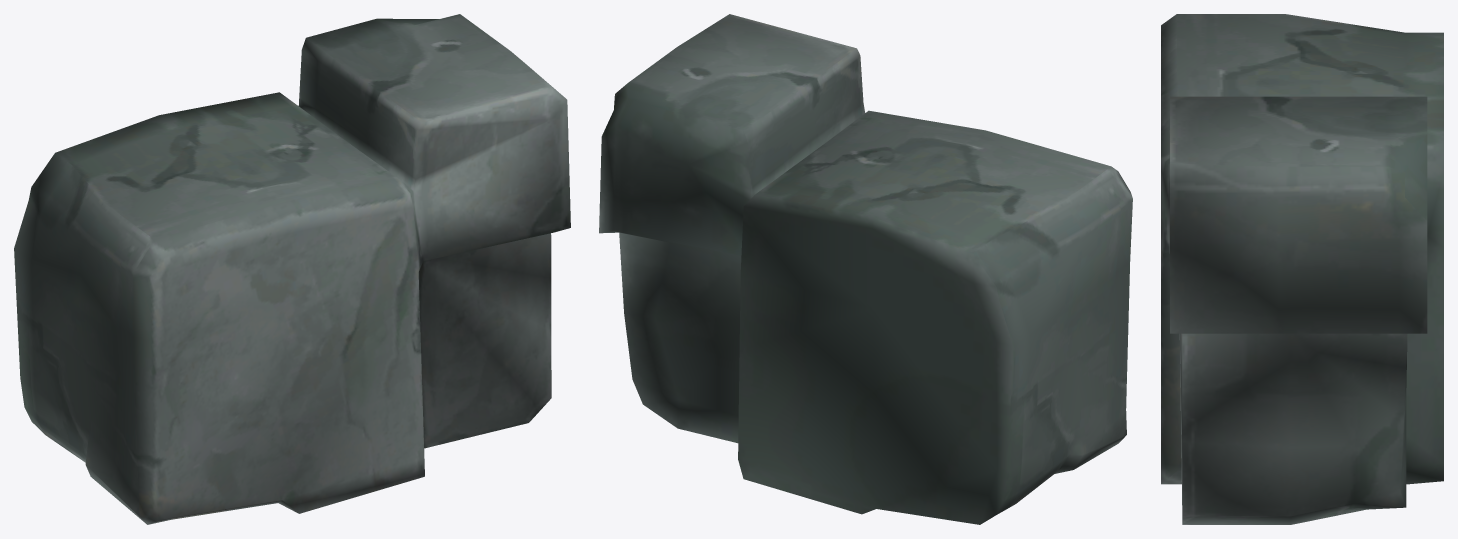
File: Floor_Block_D.fbx
3 views of the same model, side by side, from view 1: azimuth 30°, elevation 25°; view 2: azimuth 150°, elevation 25°; view 3: azimuth 270°, elevation 25° (orthographic). The views are drawn at different scales.
Parts seen in each view (by area): view 1: Floor_Block_D; view 2: Floor_Block_D; view 3: Floor_Block_D.
Part boxes in pixels (left/top/right/bottom): Floor_Block_D: left=14, top=14, right=570, bottom=524; Floor_Block_D: left=599, top=14, right=1132, bottom=524; Floor_Block_D: left=1161, top=14, right=1443, bottom=524.
Bounding box in the file's own units: 762 × 600 × 385.
